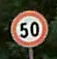limite 50: (9, 9, 49, 47)
